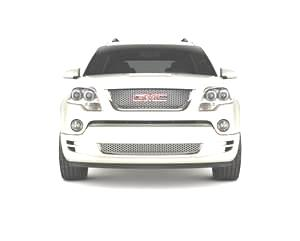GMC: (132, 92, 170, 103)
